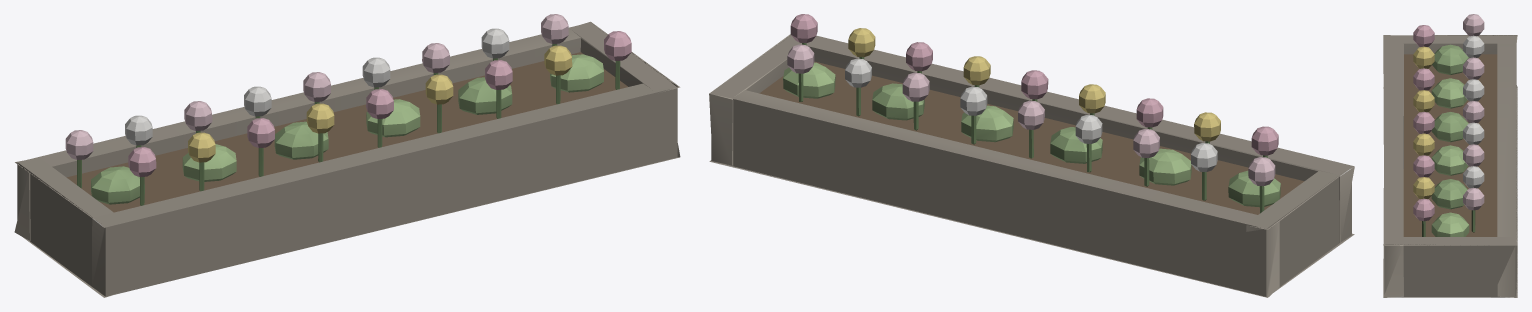
Rendered from flower_planter_low.glb.
The picture shows the model from 3 angles, left to right: view 1: azimuth 30°, elevation 25°; view 2: azimuth 150°, elevation 25°; view 3: azimuth 270°, elevation 25°; orthographic projection. The views are drawn at different scales.
Bounding box in the file's own units: 3.01 × 0.57 × 0.812.
